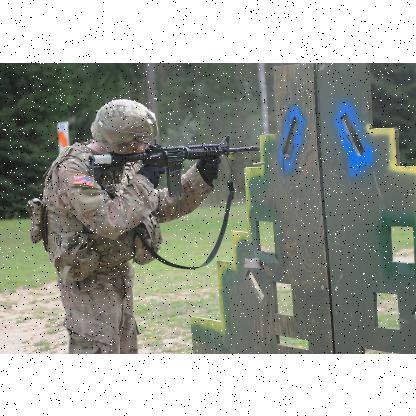gun: (107, 132, 272, 186)
